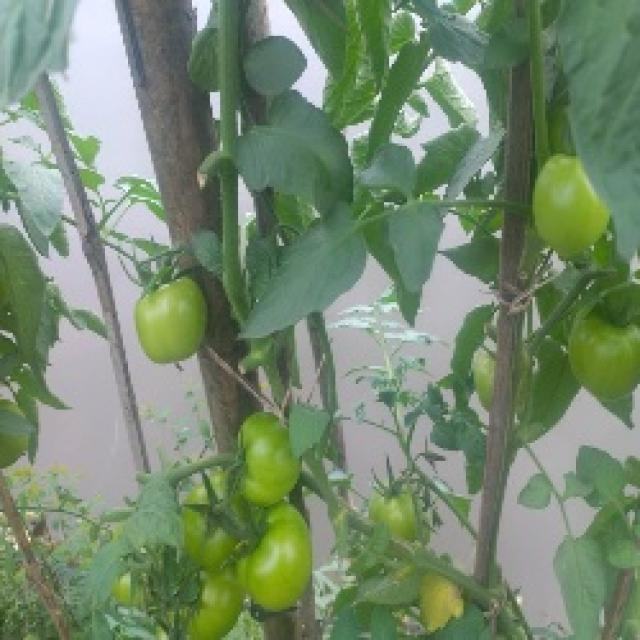tomato: (534, 150, 623, 263), (127, 275, 209, 372), (240, 504, 314, 606), (561, 300, 640, 395), (235, 404, 308, 503), (187, 483, 251, 563), (187, 574, 248, 640), (378, 483, 425, 542), (423, 575, 471, 624), (472, 346, 494, 419)
